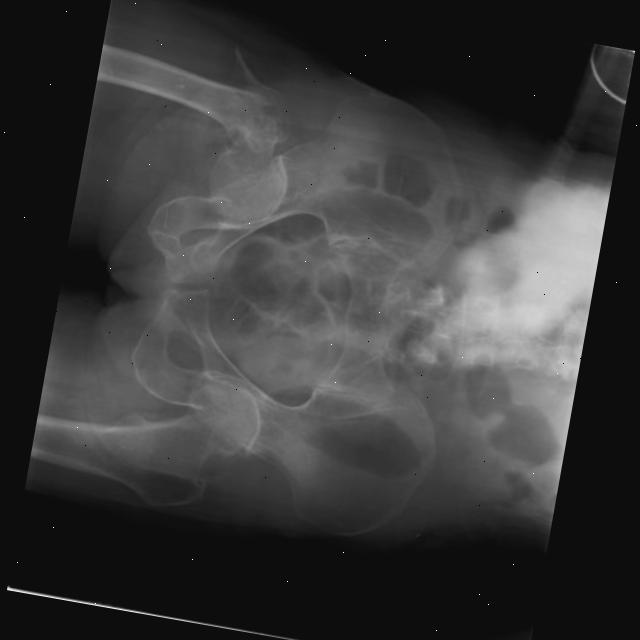Fracture: (221, 46, 296, 149)
